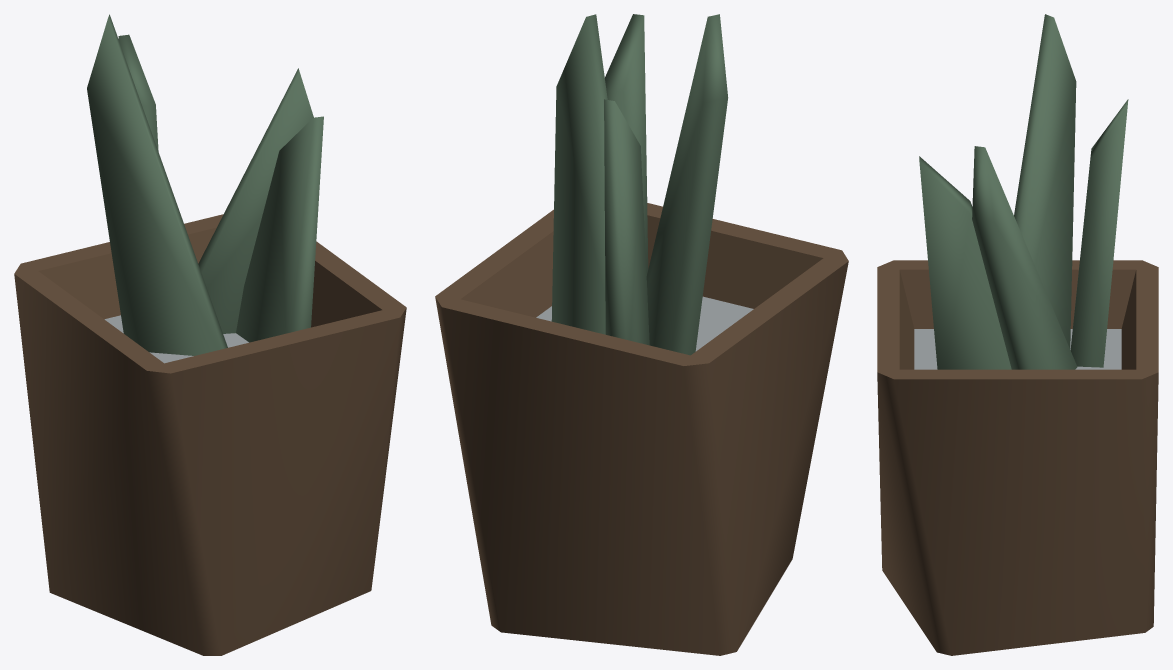
File: veg4.fbx
3 views of the same model, side by side, from view 1: azimuth 30°, elevation 25°; view 2: azimuth 150°, elevation 25°; view 3: azimuth 270°, elevation 25° (orthographic). The views are drawn at different scales.
Visible parts, largest first — view 1: Cube.006; view 2: Cube.006; view 3: Cube.006.
Boxes of the visible parts, x1,y1,x2,y2 form: Cube.006: [14, 14, 406, 655]; Cube.006: [435, 14, 848, 655]; Cube.006: [877, 14, 1158, 655].
Bounding box in the file's own units: 8.48 × 18.1 × 8.48.
